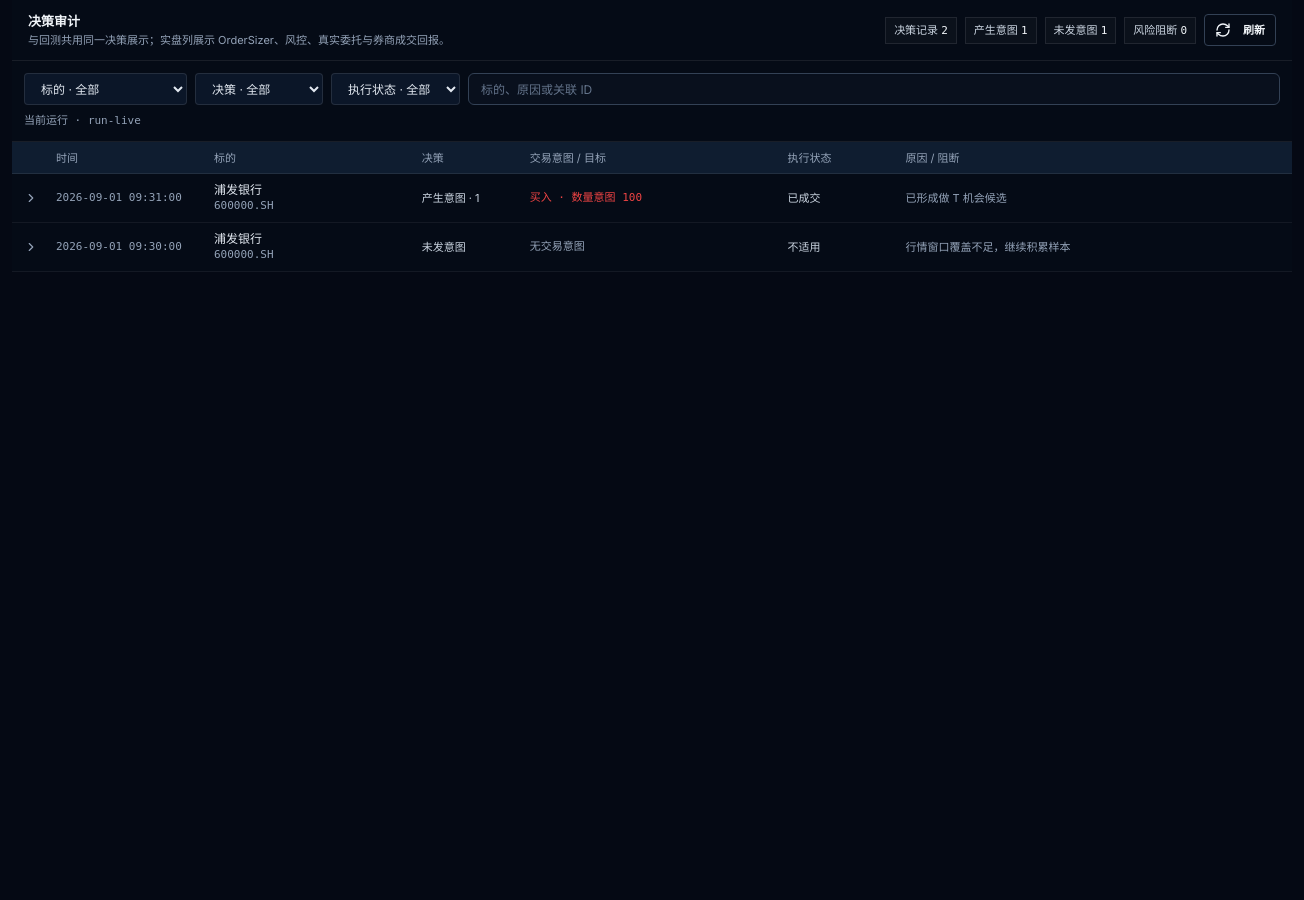
Scenario: TTradeLiveDecisionAudit › uses the shared audit presentation for live decisions and broker facts
Expected: the element named "实盘决策审计" is shown, [12,0,1292,272]
Expected: the text "产生意图 · 1" is shown, [422,191,480,205]
Click the button with aria-label "决策 600000.SH". click: [119, 198]
box: [12,174,1292,222]
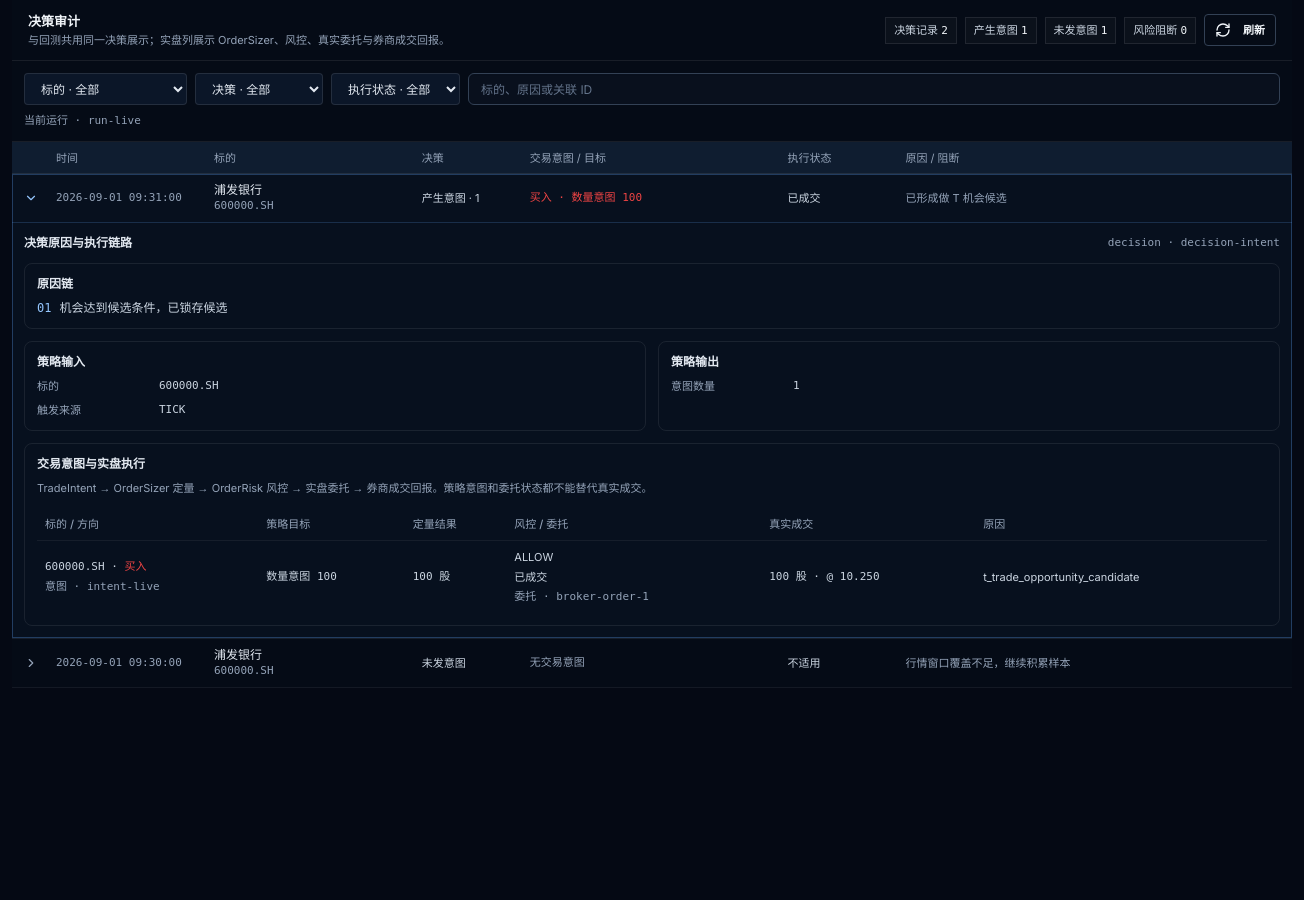
Expected: the heading "交易意图与实盘执行" is shown, [37,456,145,471]
Expected: the column heading "真实成交" is shown, [761,508,975,540]
